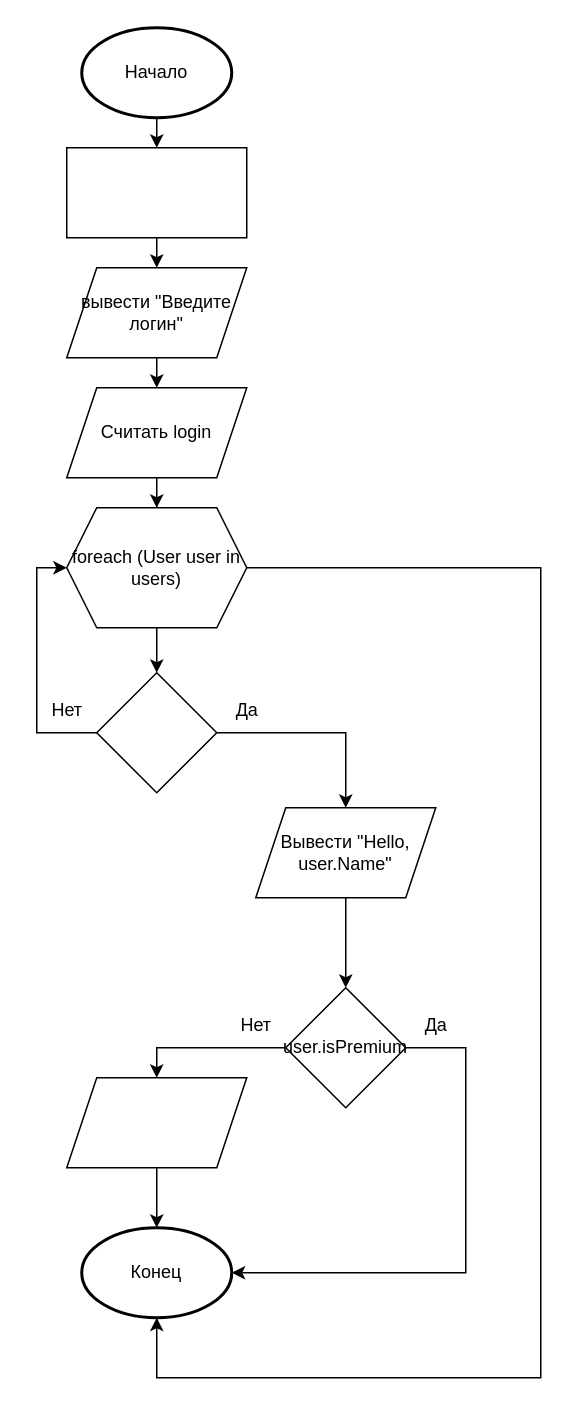
Some shapes in this 579 by 1416 pixel diagram are drawn without their labels. Each missing label, with the box of its shape:
login == user.Login: (95, 671, 217, 793)
User.ShowAds();: (65, 1076, 247, 1168)
Создать список Users: (65, 146, 247, 238)
